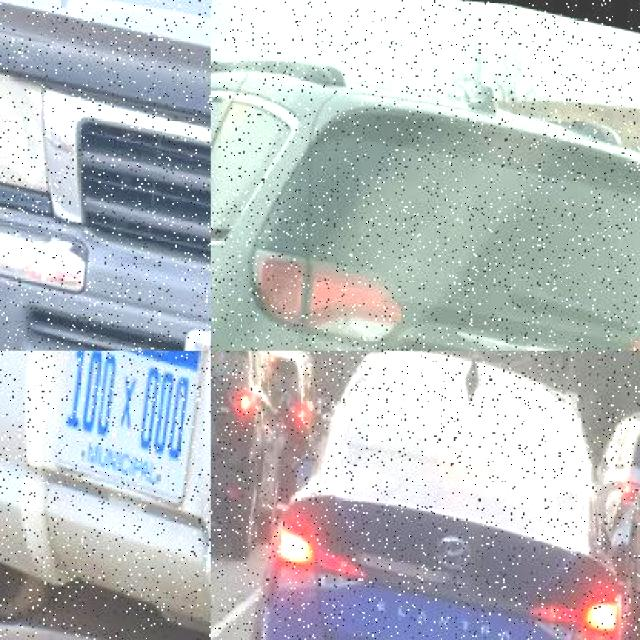licenseplate: (51, 351, 200, 500)
